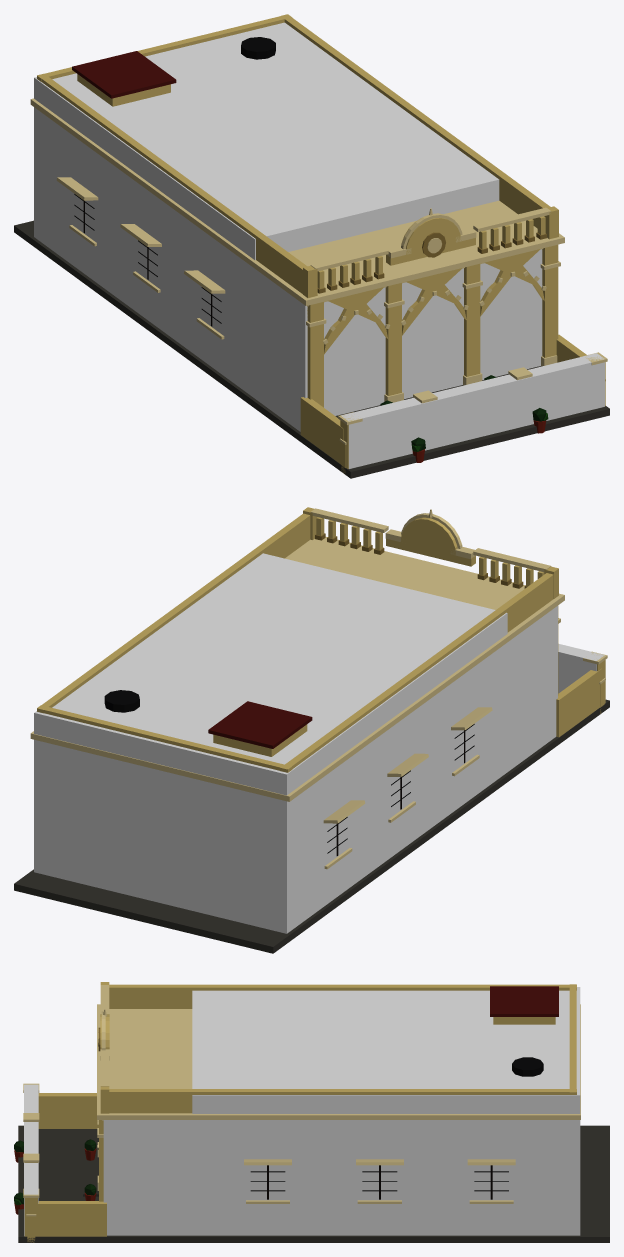
Rendered from CHN_006_verandah_house.glb.
3 renders of one model, top to bottom at view 1: azimuth 30°, elevation 25°; view 2: azimuth 150°, elevation 25°; view 3: azimuth 270°, elevation 25°, orthographic. The views are drawn at different scales.
Parts seen in each view (by area): view 1: COL_Main, LOD0, COL_Verandah, COL_Compound; view 2: COL_Main, LOD0, COL_Verandah, COL_Compound; view 3: COL_Main, LOD0, COL_Verandah, COL_Compound.
Boxes of the visible parts, x1,y1,x2,y2 form: COL_Main: [34, 22, 499, 398]; LOD0: [14, 14, 609, 478]; COL_Verandah: [253, 249, 542, 431]; COL_Compound: [341, 353, 604, 468]; COL_Main: [34, 553, 507, 933]; LOD0: [14, 507, 609, 953]; COL_Verandah: [507, 606, 557, 771]; COL_Compound: [558, 643, 604, 693]; COL_Main: [192, 987, 580, 1235]; LOD0: [14, 982, 609, 1242]; COL_Verandah: [103, 1120, 195, 1235]; COL_Compound: [24, 1084, 38, 1236].
Size of what is drawn, in the model's own units: 8.69 by 5.97 by 18.13.
